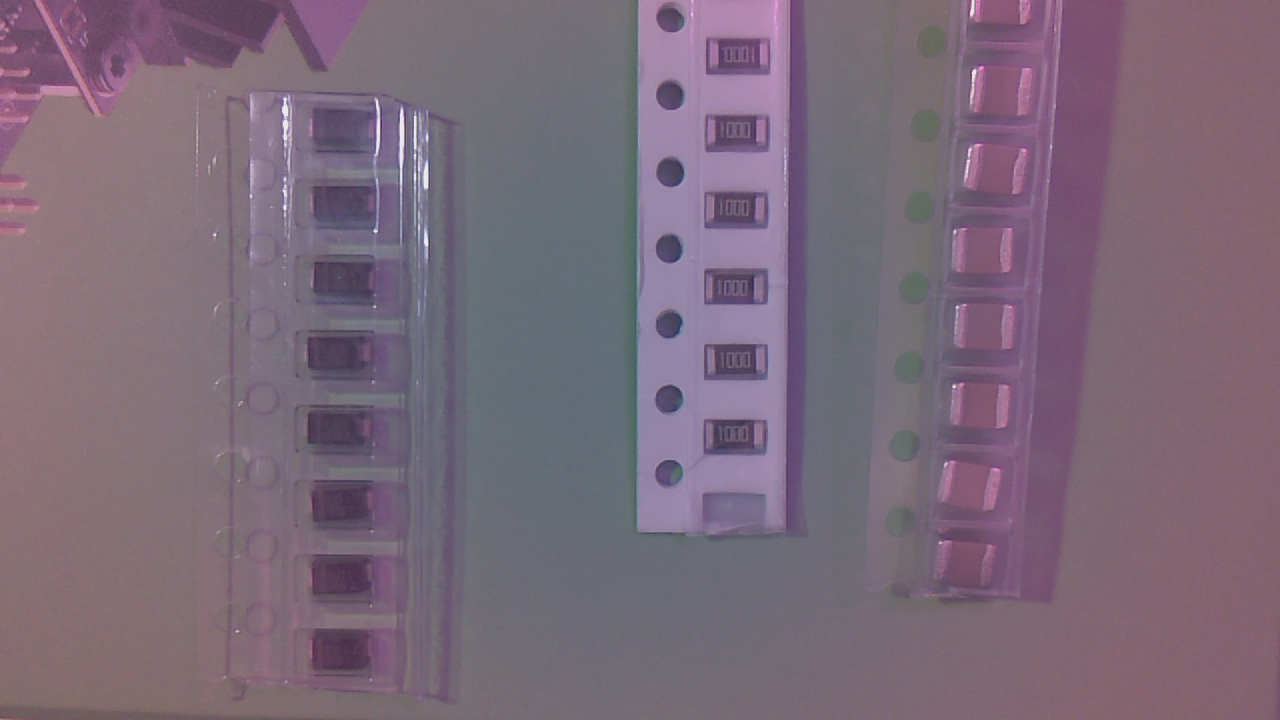Condensator: (955, 301, 1023, 358), (939, 461, 1003, 518), (952, 385, 1018, 438), (970, 68, 1033, 122), (963, 145, 1028, 197), (937, 539, 996, 592), (951, 229, 1013, 279), (971, 7, 1032, 31)
Diode: (310, 108, 384, 151), (306, 333, 377, 377), (310, 633, 379, 676), (305, 407, 374, 449), (309, 485, 380, 525), (313, 260, 381, 300), (307, 562, 387, 596), (312, 186, 378, 224)
Resistor: (706, 421, 775, 457), (709, 37, 771, 76), (706, 193, 771, 230), (706, 271, 769, 308), (705, 120, 769, 153), (708, 349, 772, 380)
